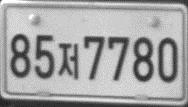0: (157, 36, 178, 83)
5: (33, 34, 55, 79)
7: (82, 35, 105, 81), (107, 35, 130, 81)
8: (9, 32, 31, 77), (132, 36, 154, 81)
저: (57, 42, 80, 80)
